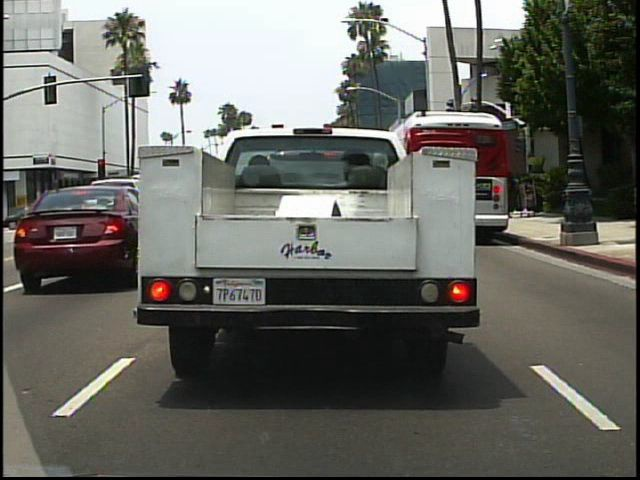person: (26, 196, 48, 240), (22, 198, 41, 233)
